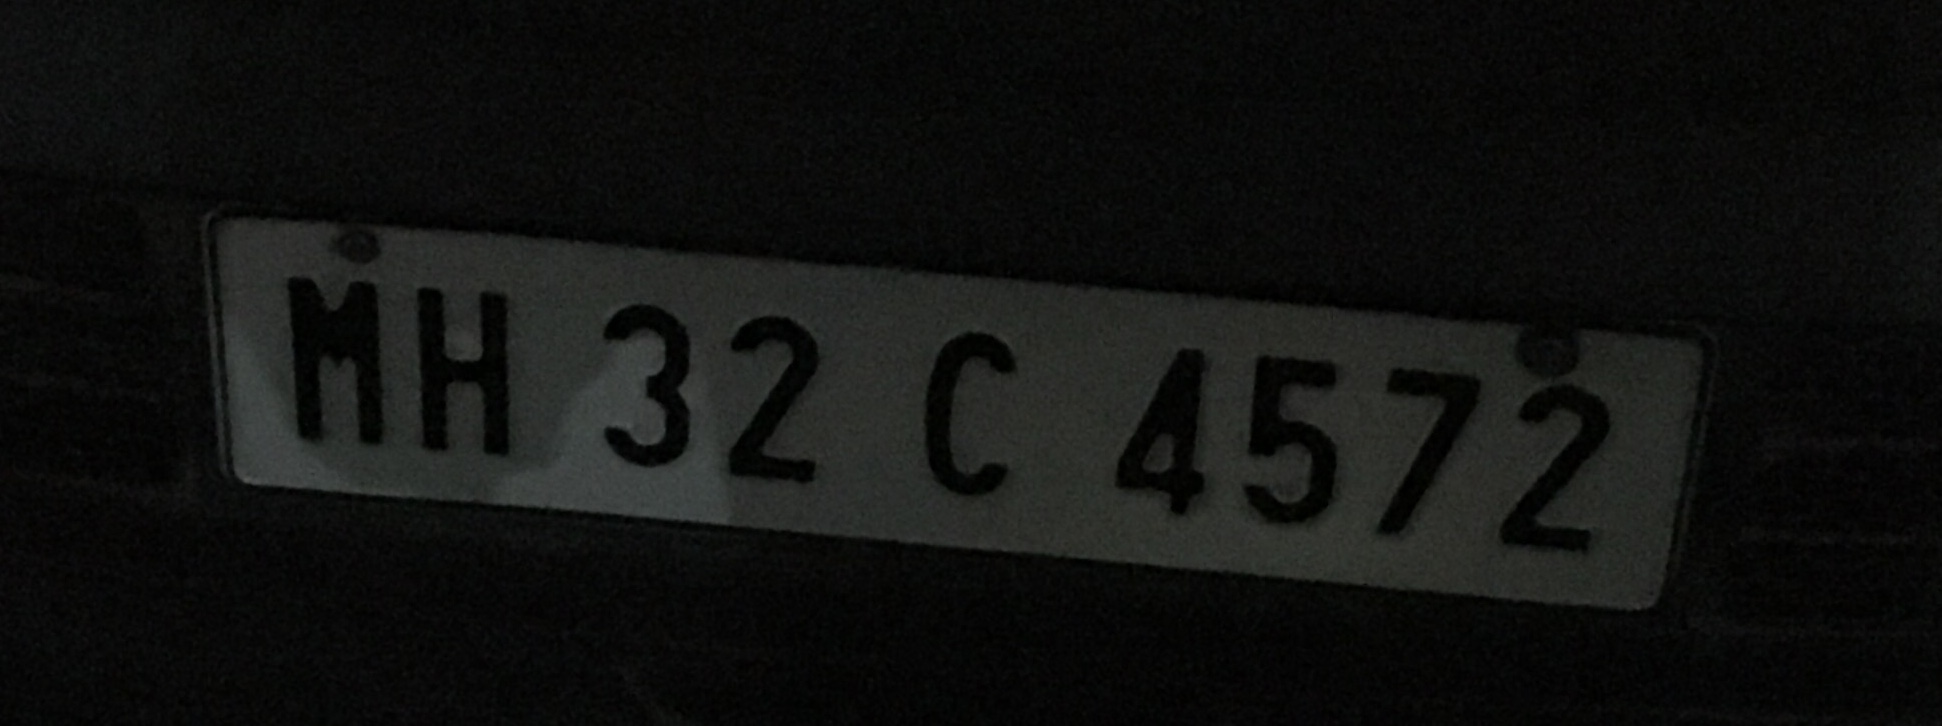numberplate: (198, 207, 1720, 612)
